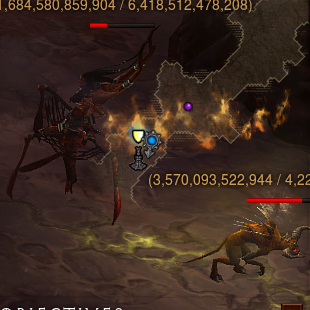ShieldPylon: (130, 128, 146, 170)
